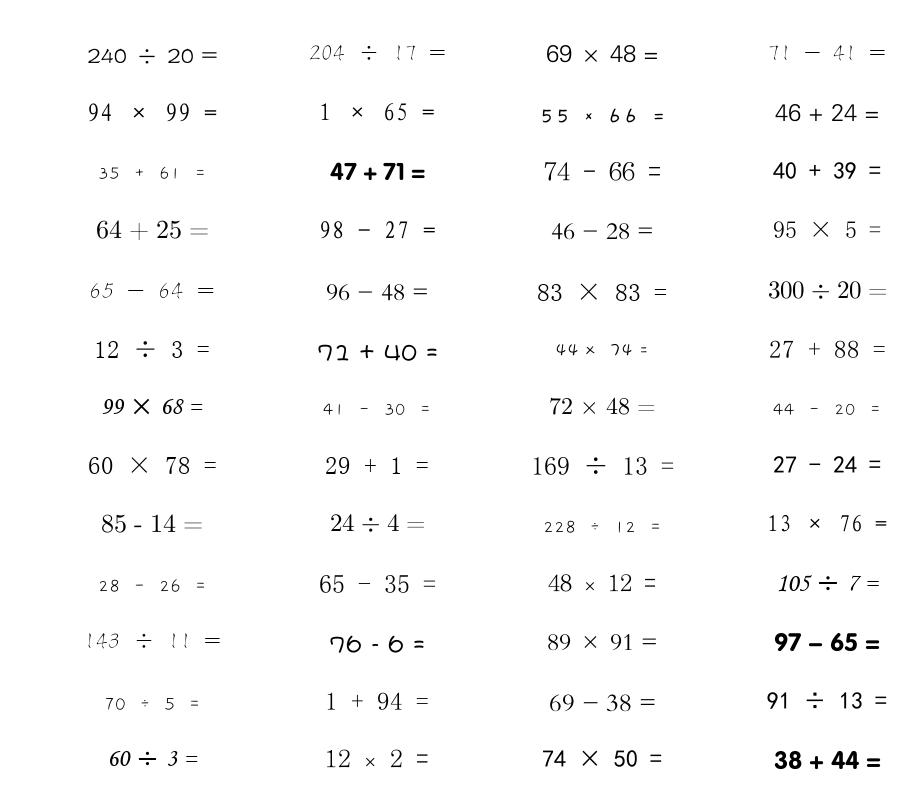MQ: (531, 456, 674, 475), (87, 103, 217, 122), (96, 220, 209, 241), (537, 283, 667, 301), (544, 162, 661, 181), (88, 457, 217, 474), (309, 45, 446, 61), (84, 633, 221, 649), (767, 514, 887, 532), (542, 750, 662, 768), (546, 44, 659, 63), (89, 282, 215, 299), (768, 281, 887, 299), (774, 750, 881, 770), (774, 632, 880, 652), (319, 221, 436, 239), (769, 340, 886, 358), (319, 575, 436, 593), (87, 48, 218, 64), (319, 103, 435, 121), (94, 340, 210, 358), (317, 344, 438, 361), (767, 692, 887, 709), (775, 103, 880, 122), (325, 749, 429, 768), (773, 162, 881, 180), (548, 574, 656, 592), (101, 514, 203, 533), (549, 397, 656, 415), (549, 694, 656, 712), (539, 108, 666, 123), (768, 45, 886, 61), (547, 634, 658, 651), (325, 692, 429, 710), (773, 221, 881, 238), (773, 456, 881, 473), (330, 162, 425, 181), (325, 457, 429, 474), (551, 223, 654, 240), (326, 284, 429, 301), (776, 575, 879, 592), (101, 398, 203, 415), (329, 635, 425, 653), (330, 514, 425, 532), (543, 520, 662, 534), (98, 166, 207, 180), (98, 579, 207, 593), (323, 403, 432, 416), (773, 403, 882, 416), (107, 751, 198, 766), (104, 697, 201, 711), (555, 343, 649, 357)
